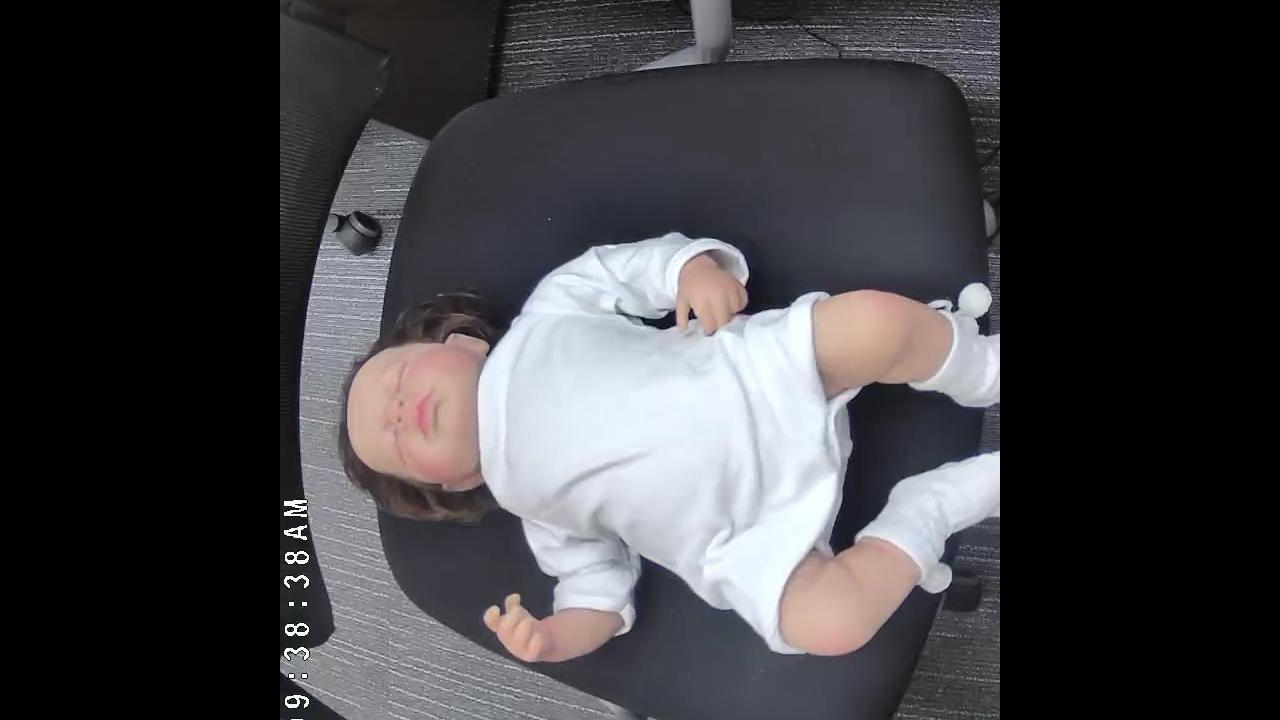hand: (676, 254, 748, 336), (484, 594, 562, 662)
